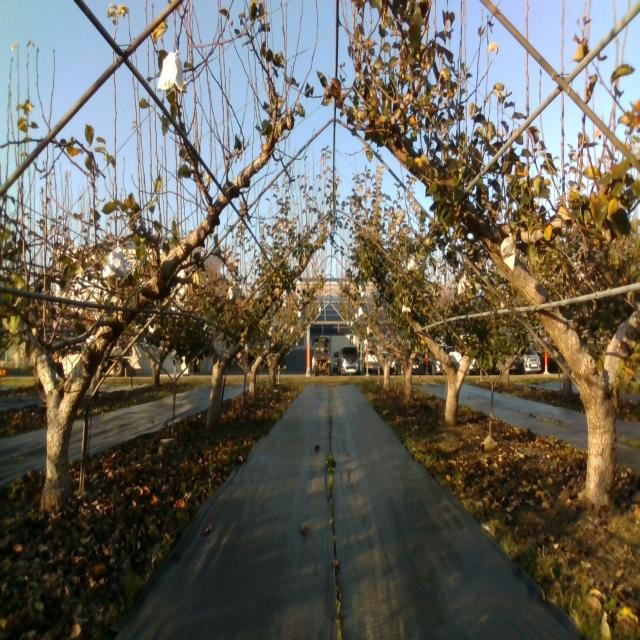pearbags: (158, 46, 185, 94), (102, 238, 127, 280), (501, 232, 516, 272), (457, 272, 473, 296), (408, 254, 418, 272)
